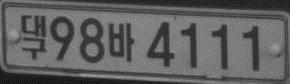1: (240, 24, 266, 71), (209, 24, 235, 70), (179, 23, 205, 67)
4: (146, 22, 174, 66)
8: (79, 17, 105, 63)
9: (49, 15, 75, 60)
대구_V: (20, 14, 47, 59)
바: (108, 22, 134, 63)
